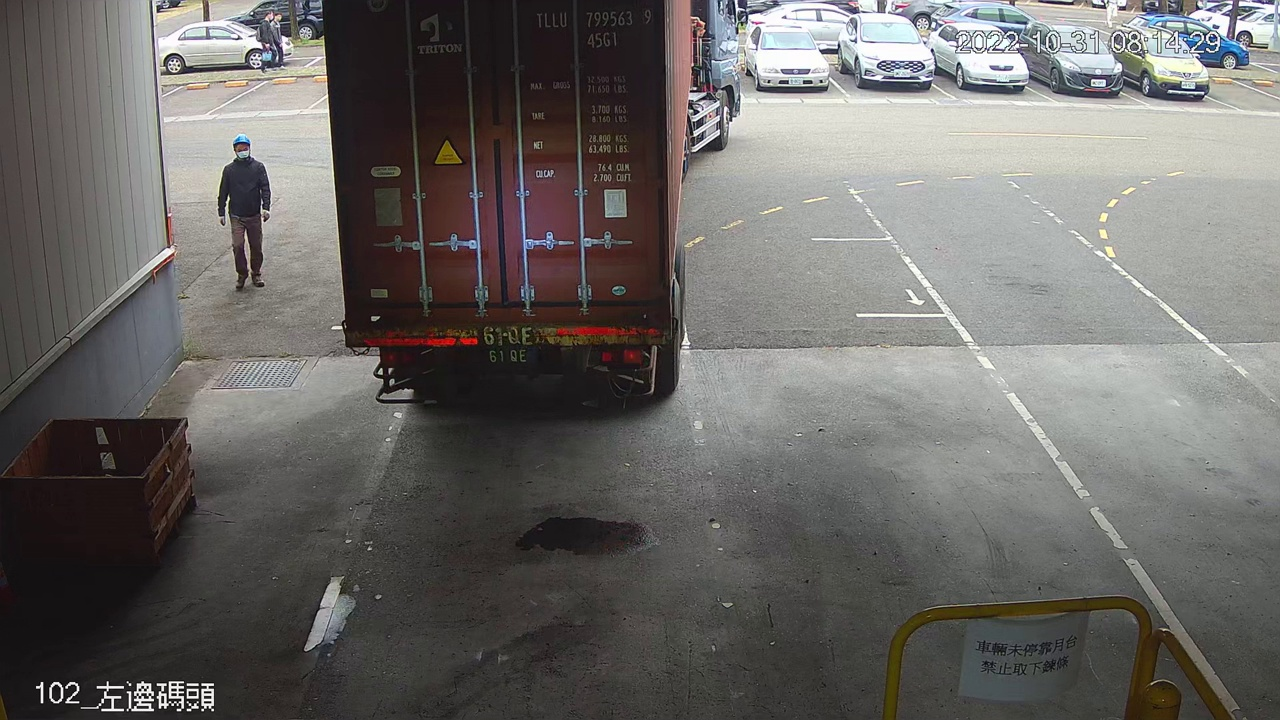container: (532, 2, 658, 54)
